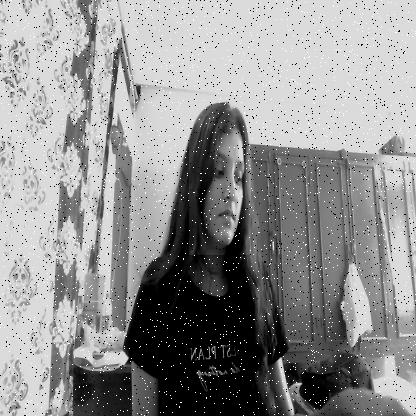Distracted: (189, 104, 251, 255)
